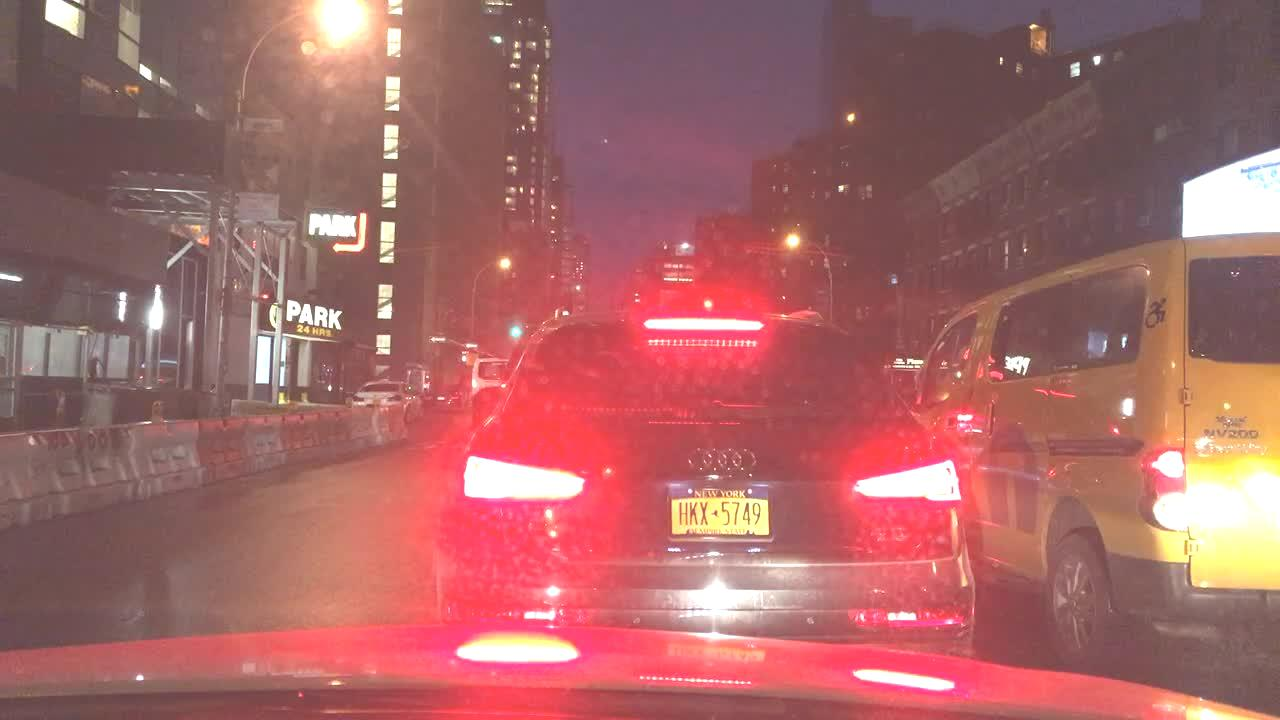Audi: (680, 440, 774, 480)
